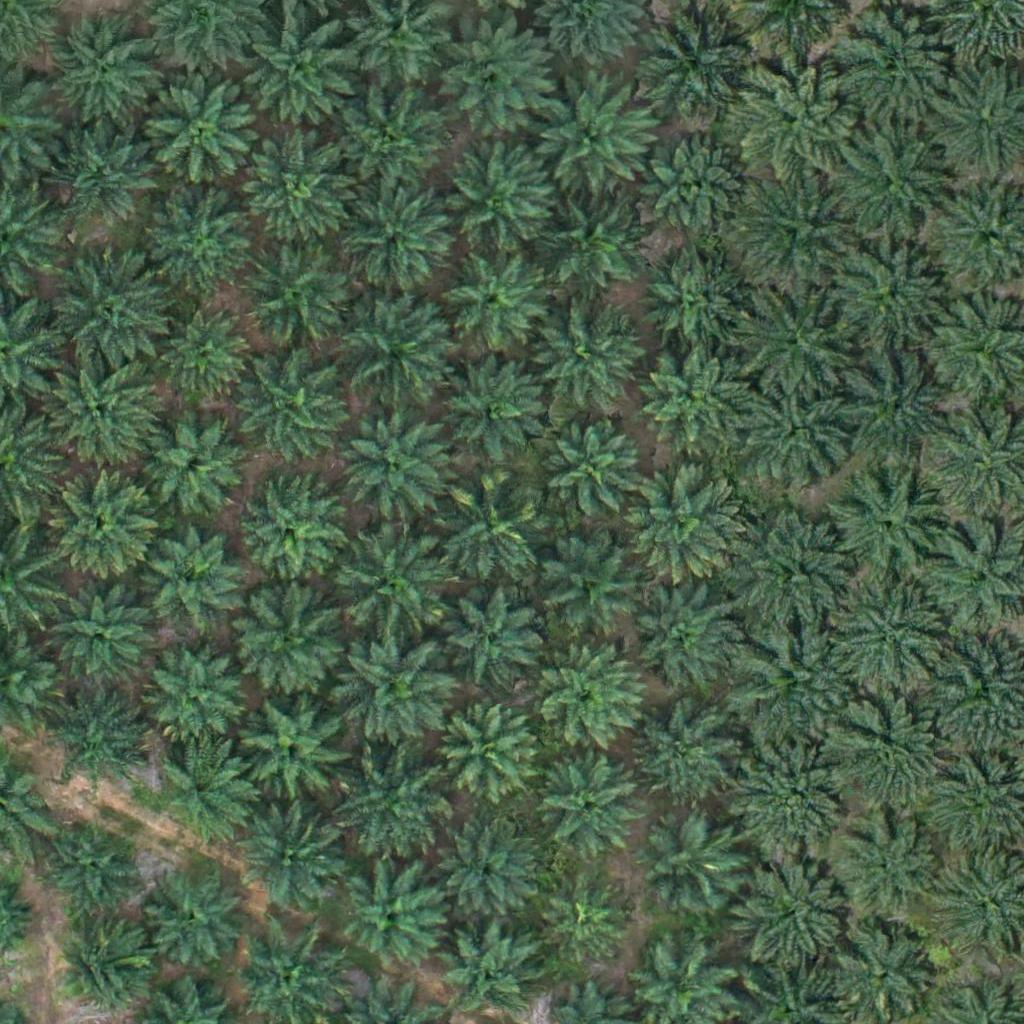Kelapa_Sawit: (640, 1, 765, 127), (739, 71, 864, 197), (40, 248, 165, 374), (333, 630, 458, 756), (622, 454, 747, 580), (618, 571, 743, 697), (735, 512, 860, 638), (735, 623, 860, 749), (835, 342, 960, 468), (732, 732, 857, 858), (823, 697, 948, 823), (529, 79, 654, 204), (743, 273, 868, 398), (830, 575, 955, 700), (727, 849, 852, 974), (437, 20, 550, 134), (339, 87, 452, 201), (46, 14, 159, 128), (45, 118, 158, 232), (147, 185, 260, 299), (240, 350, 353, 464), (831, 131, 944, 245), (231, 472, 344, 585), (234, 585, 347, 698), (442, 141, 555, 254), (531, 301, 644, 414), (334, 751, 447, 864), (836, 234, 949, 347), (827, 472, 940, 585), (240, 12, 352, 126), (143, 80, 255, 194), (242, 241, 354, 355), (338, 404, 450, 518), (336, 527, 448, 641), (433, 478, 545, 592), (533, 645, 645, 759), (48, 360, 160, 473), (48, 461, 160, 574), (241, 126, 353, 239), (343, 181, 455, 294), (342, 301, 454, 414), (634, 344, 746, 457), (742, 380, 854, 493), (54, 586, 154, 687), (146, 412, 246, 513), (144, 535, 244, 636), (443, 247, 543, 348), (441, 354, 541, 455), (542, 199, 642, 300), (543, 422, 643, 523), (648, 129, 748, 230), (643, 254, 743, 355), (749, 180, 849, 281), (440, 826, 540, 927), (440, 920, 540, 1021), (341, 866, 441, 967), (245, 702, 345, 803), (238, 799, 338, 900), (146, 870, 246, 971), (155, 735, 255, 836), (142, 647, 242, 748), (46, 688, 146, 789), (46, 820, 146, 921), (50, 916, 150, 1017), (835, 815, 935, 916), (154, 306, 254, 406), (447, 583, 547, 683), (537, 537, 637, 637), (634, 709, 734, 809), (642, 817, 742, 917), (541, 759, 641, 859), (438, 704, 538, 804), (542, 879, 630, 967)
